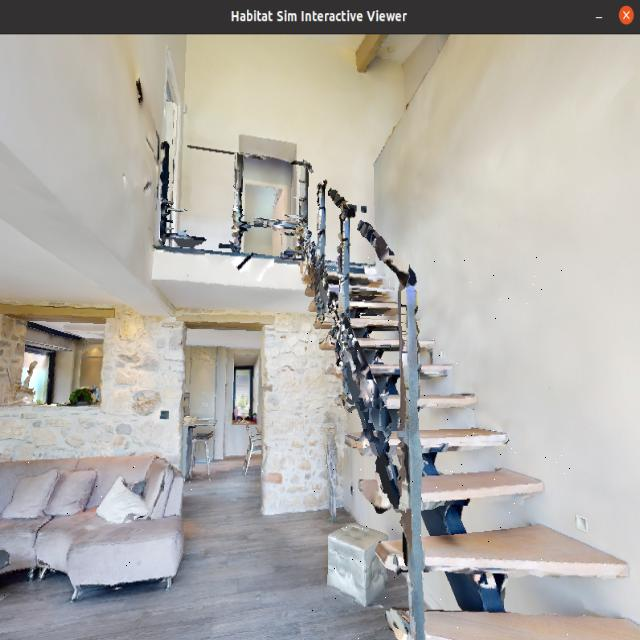door-frame: (177, 318, 270, 533), (231, 132, 304, 274)
sofa: (0, 444, 220, 603)
stairs: (306, 246, 572, 640)
